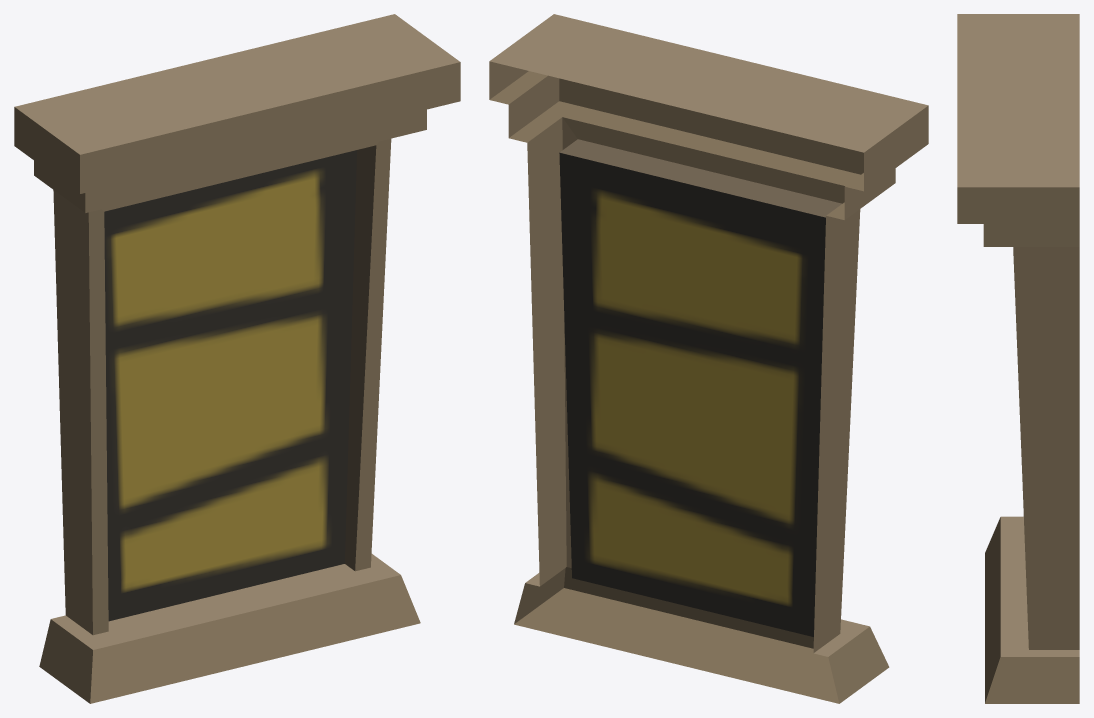
The model's file is Window_B10.fbx.
3 renders of one model, left to right at view 1: azimuth 30°, elevation 25°; view 2: azimuth 150°, elevation 25°; view 3: azimuth 270°, elevation 25°, orthographic. The views are drawn at different scales.
Visible parts, largest first — view 1: Window_B10; view 2: Window_B10; view 3: Window_B10.
Part boxes in pixels (box(x1,y1,x2,y2)): Window_B10: box(14, 14, 460, 703); Window_B10: box(489, 14, 928, 703); Window_B10: box(957, 14, 1079, 703).
Bounding box in the file's own units: 191 × 271 × 56.94.
